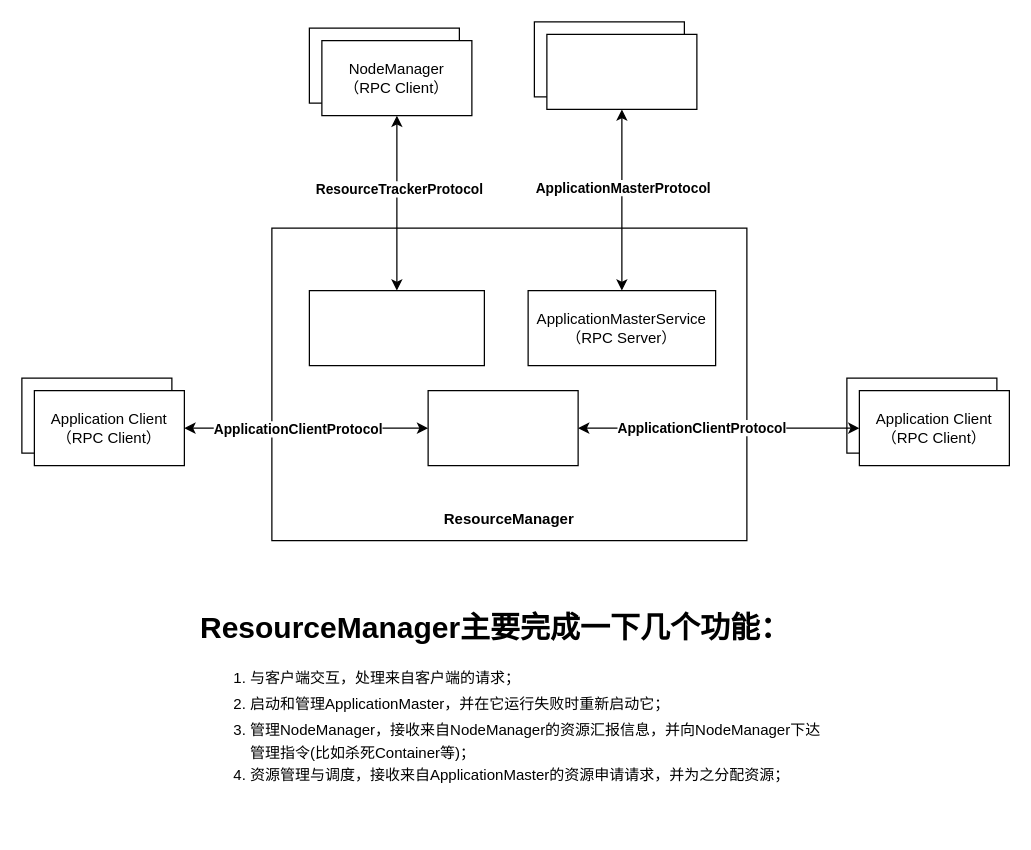
This 1031x850 diagram has some shape labels left out. The centre of each missing label's shape, as x and y in pixels:
"ApplicationMaster （RPC Client）" belongs at point (621, 71).
"ClientRMService （RPC Server）" belongs at point (502, 427).
"ResourceTrackerService （RPC Server）" belongs at point (396, 327).
